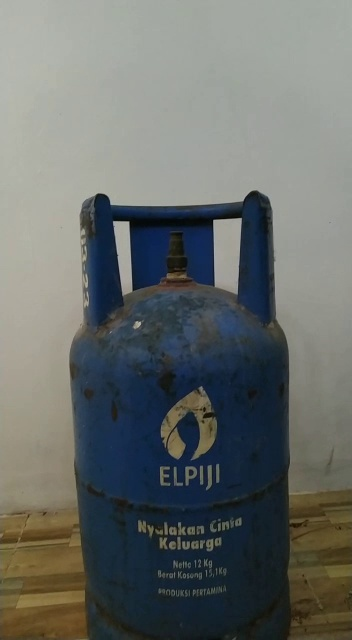blue_gas: (70, 190, 291, 640)
